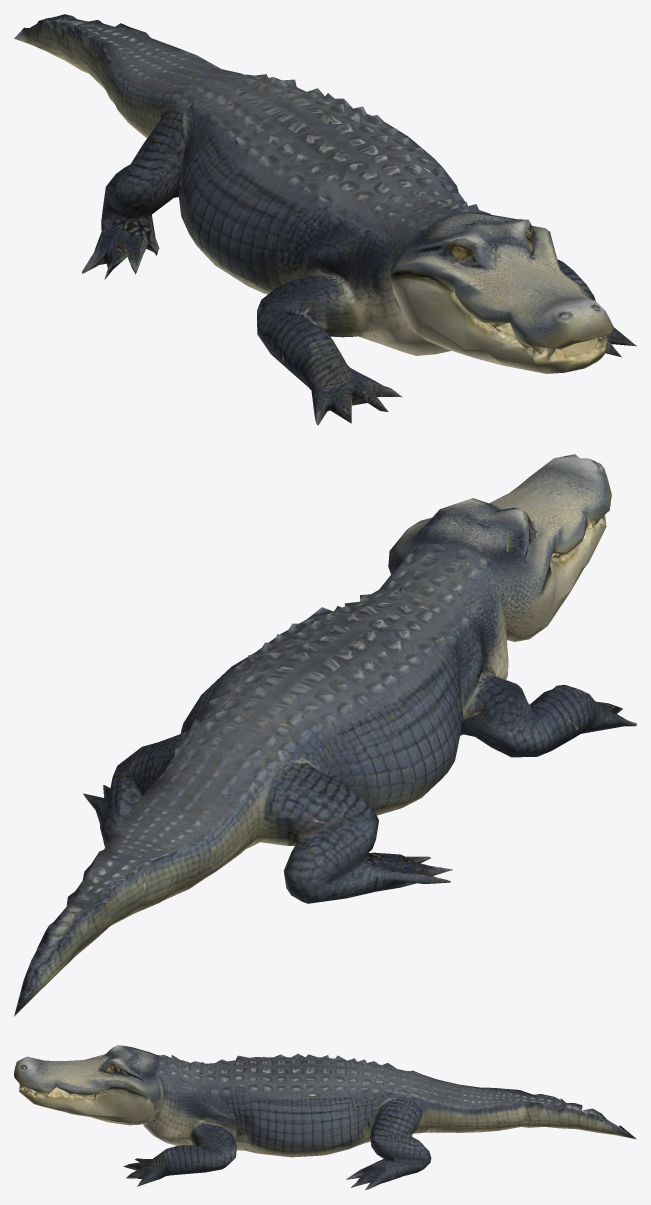
File: krokodil.glb
The picture shows the model from 3 angles, top to bottom: view 1: azimuth 30°, elevation 25°; view 2: azimuth 150°, elevation 25°; view 3: azimuth 270°, elevation 25°; orthographic projection. The views are drawn at different scales.
Size of the model in its own units: 0.6995 by 0.3108 by 1.9.
Materials: 1 (1 with a texture image).
